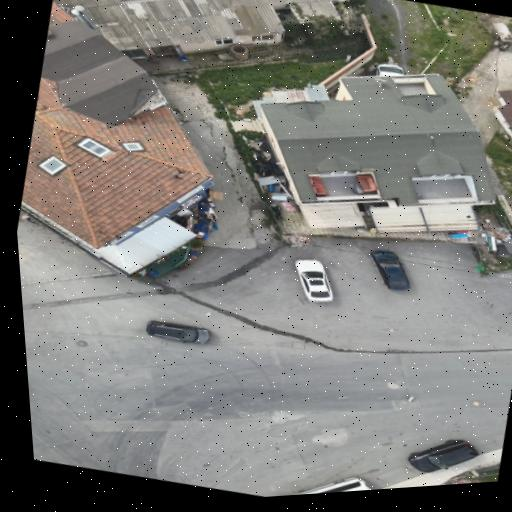car: (408, 440, 478, 472), (296, 260, 333, 302), (146, 320, 210, 344), (371, 251, 410, 290), (290, 477, 371, 495), (377, 64, 404, 77)
